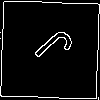J: (25, 25, 77, 76)
